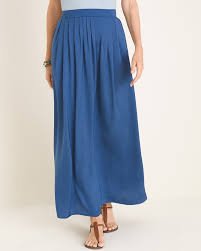C_skirt: (41, 6, 155, 223)
